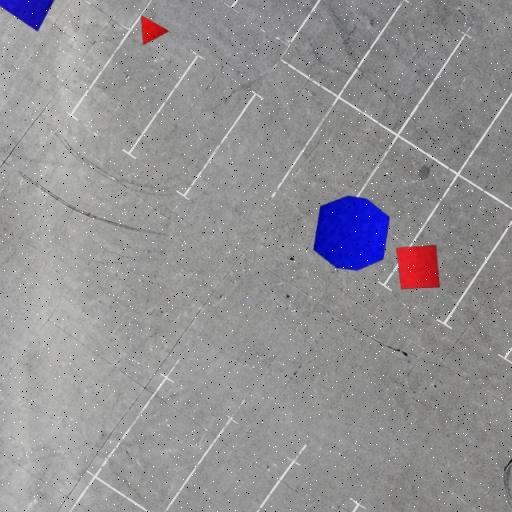RED_SQUARE: (396, 244, 441, 290)
